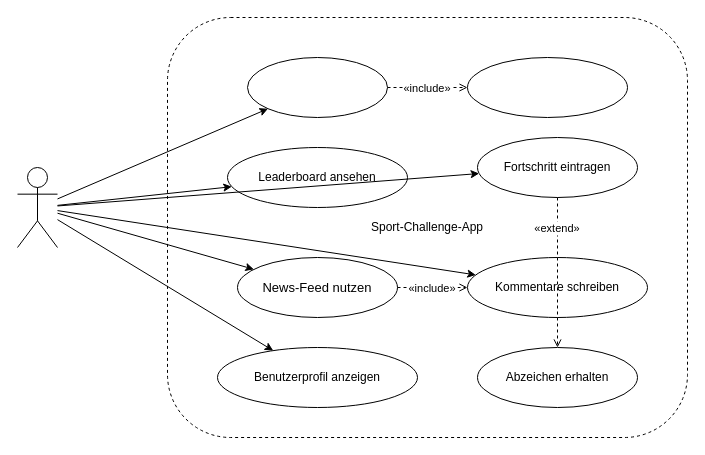
The diagram is 705 pixels wide and 455 high, and some of its shapes have lost their labels. The shapes that lost their labels are listed below. From the top down, each one's centre as x and y in pixels, then its label:
At (317,87): "Gruppe erstellen".
At (547,87): "Challenge erstellen".
At (37,207): "Nutzer".
